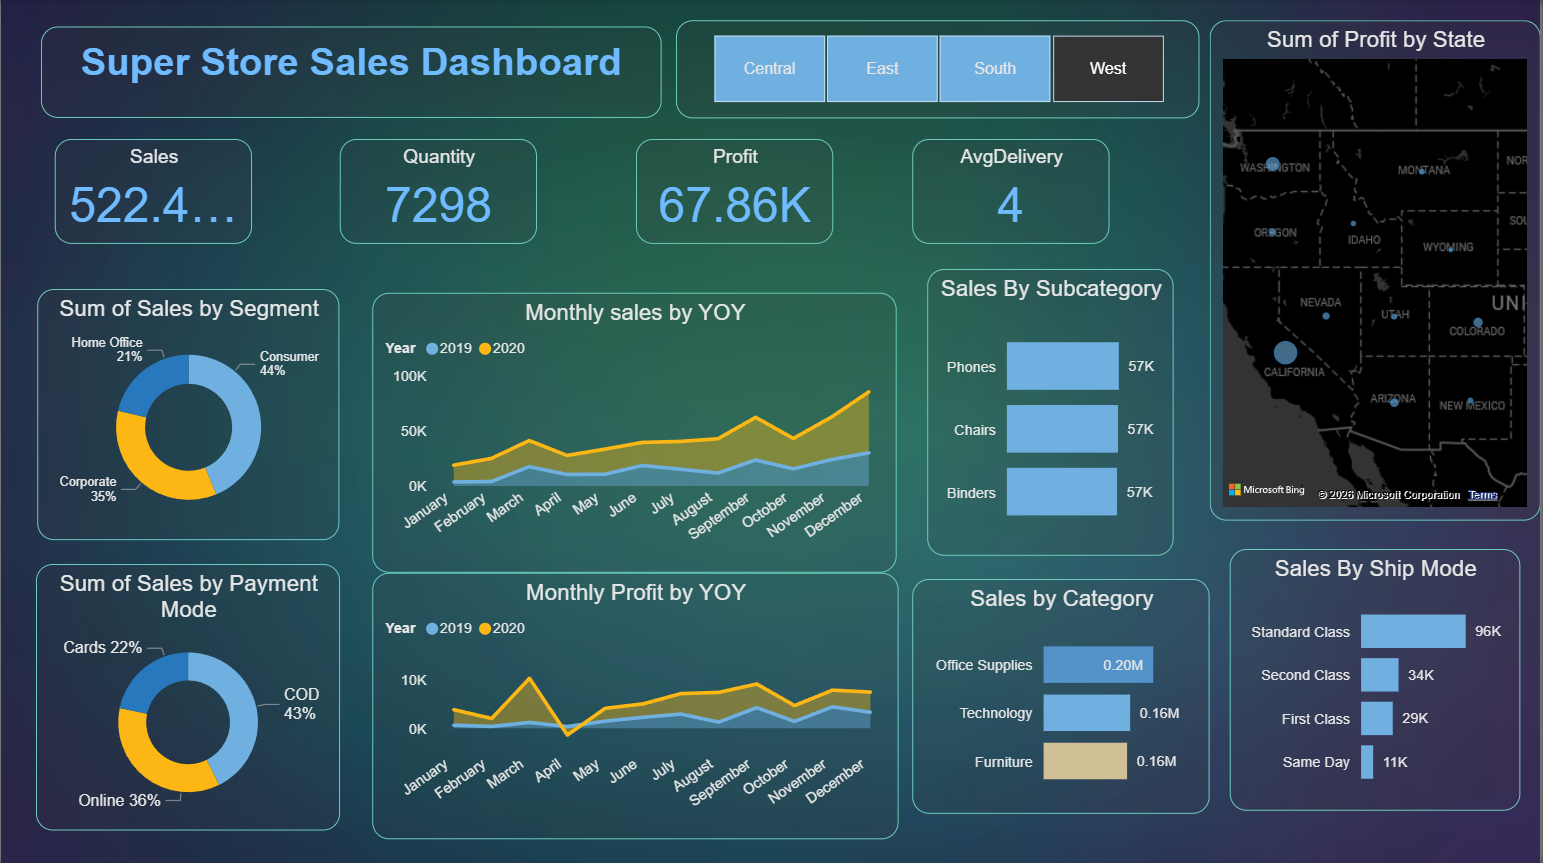

The page's visual inventory and layout, read from the dashboard file:
{"tool":"powerbi","page":{"name":"Page 1","canvas":[1280,720],"ordinal":0},"visuals":[{"type":"clusteredBarChart","title":"Sales by Category","fields":{"Category":["SuperStore_Sales_Dataset.Category"],"Y":["Sum(SuperStore_Sales_Dataset.Sales)"]},"box":[757.5,482.5,247.5,195],"z":0},{"type":"clusteredBarChart","title":"Sales By Subcategory","fields":{"Y":["Sum(SuperStore_Sales_Dataset.Sales)"],"Category":["SuperStore_Sales_Dataset.Sub-Category"]},"box":[770,225,205,238.8],"z":1000},{"type":"clusteredBarChart","title":"Sales By Ship Mode","fields":{"Y":["Sum(SuperStore_Sales_Dataset.Sales)"],"Category":["SuperStore_Sales_Dataset.Ship Mode"]},"box":[1021.2,457.5,241.2,217.5],"z":2000},{"type":"stackedAreaChart","title":" Monthly sales by YOY","fields":{"Y":["Sum(SuperStore_Sales_Dataset.Sales)"],"Series":["SuperStore_Sales_Dataset.Order Date.Variation.Date Hierarchy.Year"],"Category":["SuperStore_Sales_Dataset.Order Date.Variation.Date Hierarchy.Month","SuperStore_Sales_Dataset.Order Date.Variation.Date Hierarchy.Day"]},"box":[308.8,243.8,436.2,232.5],"z":3000},{"type":"stackedAreaChart","title":" Monthly Profit by YOY","fields":{"Series":["SuperStore_Sales_Dataset.Order Date.Variation.Date Hierarchy.Year"],"Category":["SuperStore_Sales_Dataset.Order Date.Variation.Date Hierarchy.Month","SuperStore_Sales_Dataset.Order Date.Variation.Date Hierarchy.Day"],"Y":["Sum(SuperStore_Sales_Dataset.Profit)"]},"box":[308.8,477.5,437.5,221.2],"z":4000},{"type":"map","title":" Sum of Profit by State","fields":{"Category":["SuperStore_Sales_Dataset.State"],"Size":["Sum(SuperStore_Sales_Dataset.Sales)"]},"box":[1005,17.5,275,416.2],"z":5000},{"type":"donutChart","fields":{"Category":["SuperStore_Sales_Dataset.Segment"],"Y":["Sum(SuperStore_Sales_Dataset.Sales)"]},"box":[30,241.2,251.2,208.8],"z":6000},{"type":"donutChart","fields":{"Y":["Sum(SuperStore_Sales_Dataset.Sales)"],"Category":["SuperStore_Sales_Dataset.Payment Mode"]},"box":[28.8,470,252.5,221.2],"z":7000},{"type":"slicer","fields":{"Values":["SuperStore_Sales_Dataset.Region"]},"box":[561.2,17.5,435,81.2],"z":8000},{"type":"textbox","box":[33.8,22.5,516.2,76.2],"z":9000},{"type":"card","title":"Sales","fields":{"Values":["Sum(SuperStore_Sales_Dataset.Sales)"]},"box":[45,116.2,163.8,87.5],"z":10000},{"type":"card","title":"Quantity","fields":{"Values":["Sum(SuperStore_Sales_Dataset.Quantity)"]},"box":[281.2,116.2,163.8,87.5],"z":11000},{"type":"card","title":"Profit","fields":{"Values":["Sum(SuperStore_Sales_Dataset.Profit)"]},"box":[527.5,116.2,163.8,87.5],"z":12000},{"type":"card","title":"AvgDelivery","fields":{"Values":["Avg(SuperStore_Sales_Dataset.AvgDelivery)"]},"box":[757.5,116.2,163.8,87.5],"z":13000}]}

Visuals, with their boxes in screenshot pixels (x1, y1, x2, y2), scaled from the page's 1280x720 canvas onto the 1543x863 screenshot:
"Sales by Category" clusteredBarChart: <bbox>913, 578, 1211, 812</bbox>
"Sales By Subcategory" clusteredBarChart: <bbox>928, 270, 1175, 556</bbox>
"Sales By Ship Mode" clusteredBarChart: <bbox>1231, 548, 1522, 809</bbox>
" Monthly sales by YOY" stackedAreaChart: <bbox>372, 292, 898, 571</bbox>
" Monthly Profit by YOY" stackedAreaChart: <bbox>372, 572, 900, 837</bbox>
" Sum of Profit by State" map: <bbox>1211, 21, 1542, 520</bbox>
donutChart - SuperStore_Sales_Dataset.Segment x Sum(SuperStore_Sales_Dataset.Sales): <bbox>36, 289, 339, 539</bbox>
donutChart - Sum(SuperStore_Sales_Dataset.Sales) x SuperStore_Sales_Dataset.Payment Mode: <bbox>35, 563, 339, 828</bbox>
slicer - SuperStore_Sales_Dataset.Region: <bbox>677, 21, 1201, 118</bbox>
textbox: <bbox>41, 27, 663, 118</bbox>
"Sales" card: <bbox>54, 139, 252, 244</bbox>
"Quantity" card: <bbox>339, 139, 536, 244</bbox>
"Profit" card: <bbox>636, 139, 833, 244</bbox>
"AvgDelivery" card: <bbox>913, 139, 1111, 244</bbox>
